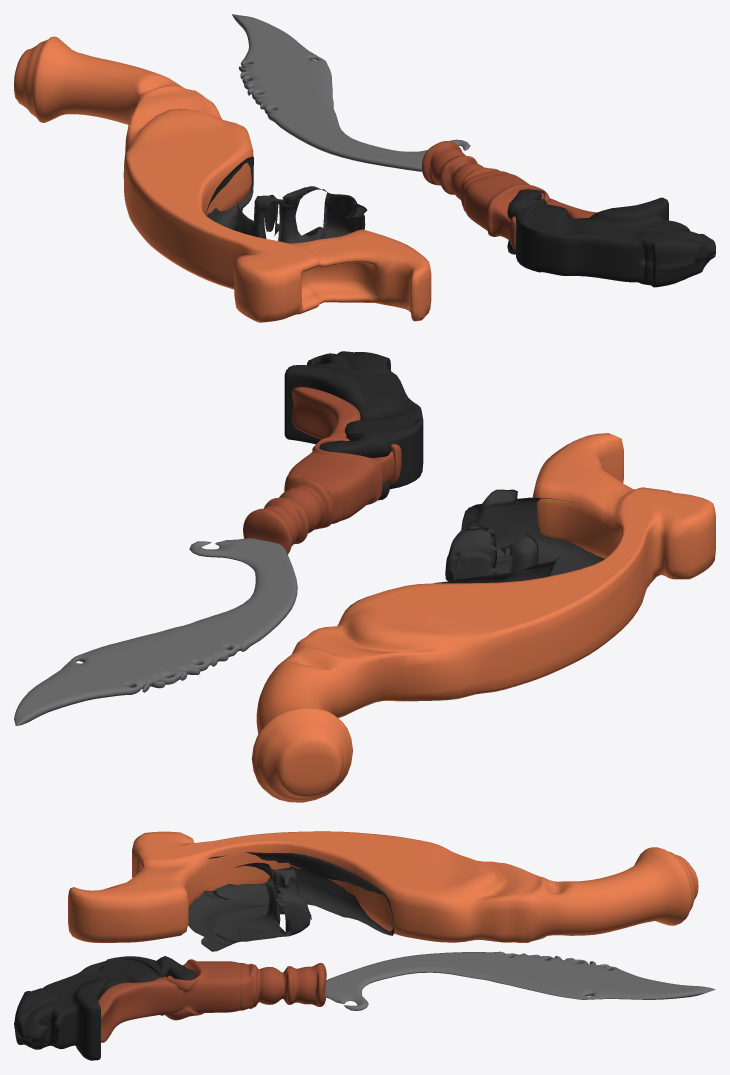
Rendered from kujang blendswap.fbx.
3 views of the same model, one above another, from view 1: azimuth 30°, elevation 25°; view 2: azimuth 150°, elevation 25°; view 3: azimuth 270°, elevation 25° (orthographic). The views are drawn at different scales.
Parts seen in each view (by area): view 1: Plane.003, Plane.002, Plane, Plane.001, Plane.004; view 2: Plane.003, Plane, Plane.001, Plane.002, Plane.004; view 3: Plane.003, Plane.004, Plane, Plane.001, Plane.002.
Boxes of the visible parts, bbox=[...] form: Plane.003: bbox=[14, 36, 431, 322]; Plane.002: bbox=[507, 189, 715, 287]; Plane: bbox=[232, 14, 470, 171]; Plane.001: bbox=[422, 141, 597, 250]; Plane.004: bbox=[205, 156, 367, 243]; Plane.003: bbox=[251, 433, 715, 802]; Plane: bbox=[14, 538, 297, 725]; Plane.001: bbox=[243, 387, 401, 554]; Plane.002: bbox=[284, 351, 423, 500]; Plane.004: bbox=[434, 489, 604, 583]; Plane.003: bbox=[68, 831, 698, 942]; Plane.004: bbox=[188, 852, 394, 951]; Plane: bbox=[324, 951, 715, 1010]; Plane.001: bbox=[98, 959, 326, 1042]; Plane.002: bbox=[14, 956, 196, 1060].
Size of the model in its own units: 560 by 104 by 897.
